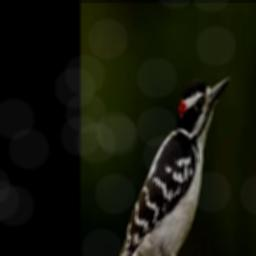Woodpecker: (109, 74, 229, 256)
